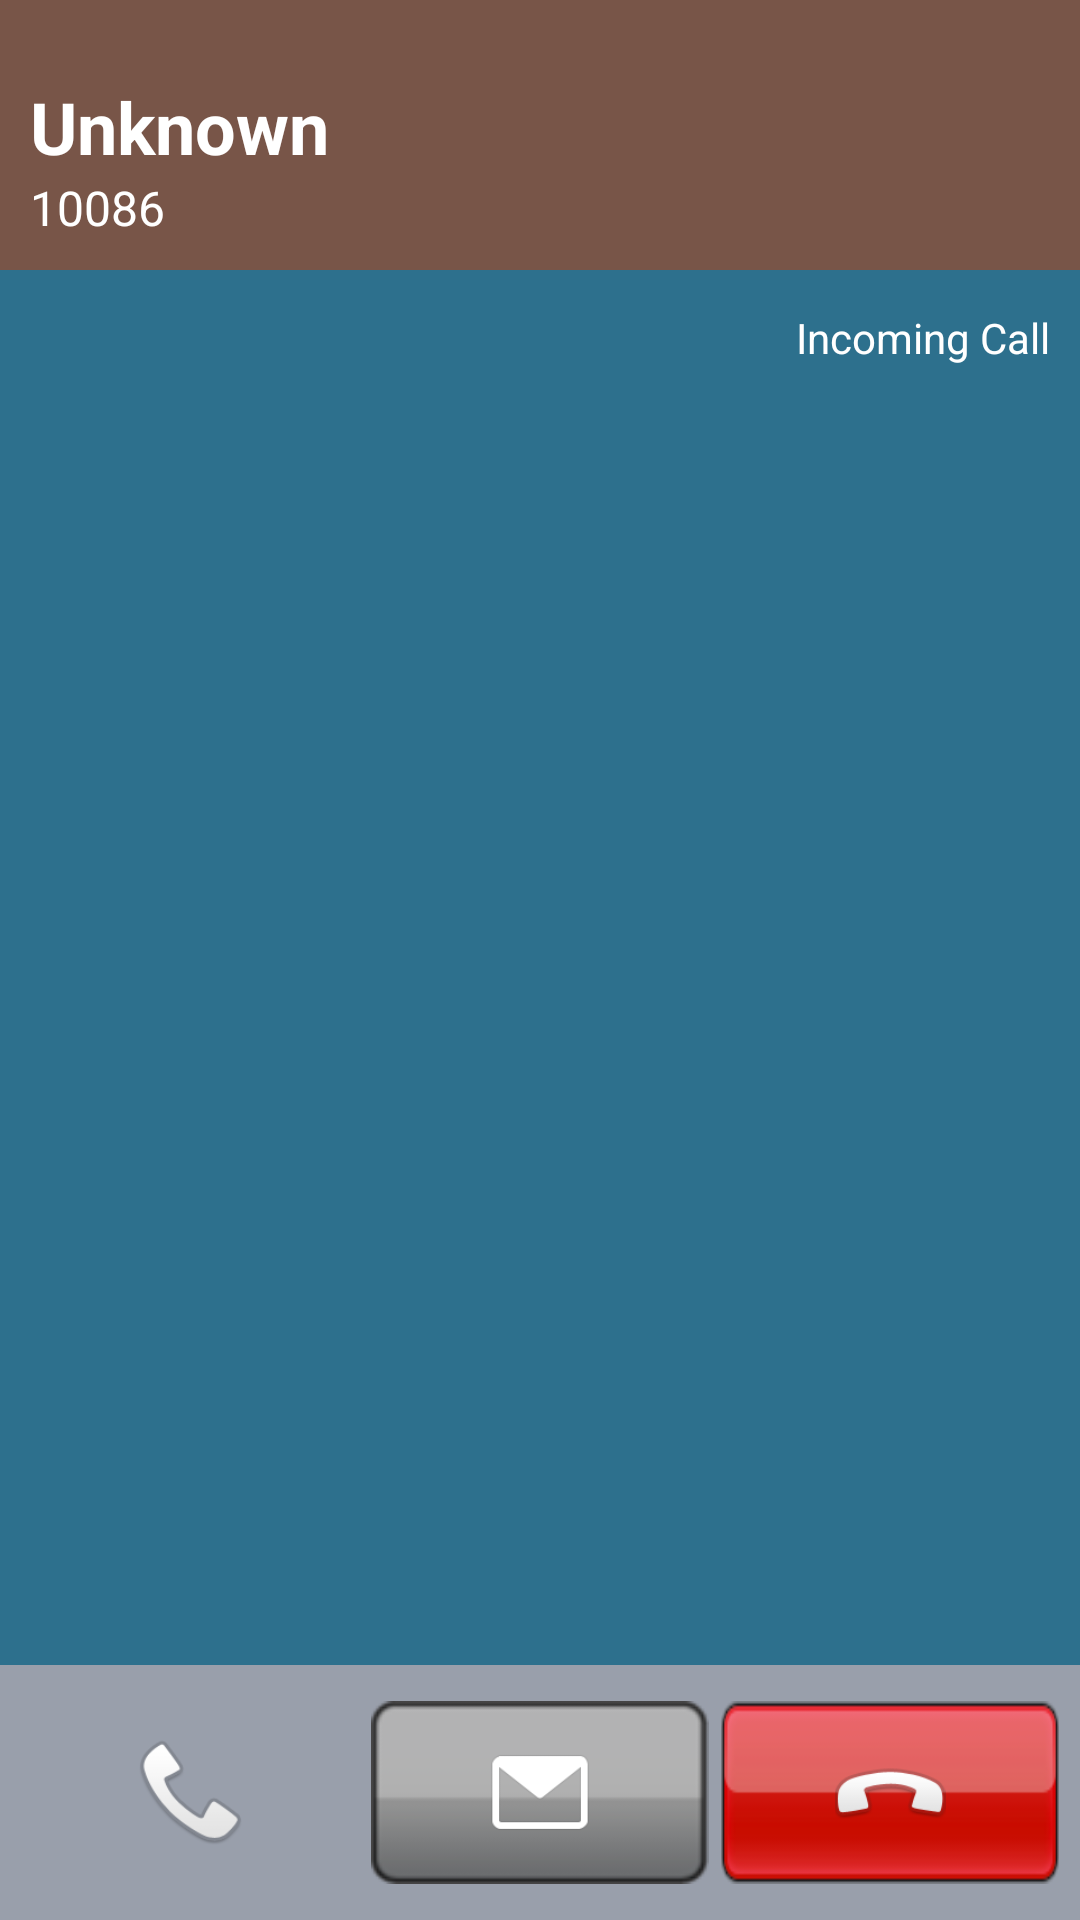

Where icons sit on this 1080w x 1920h app screen, as (x1, y1, x2, y2):
endcall: (721, 1701, 1059, 1884)
message: (371, 1701, 709, 1884)
receive: (141, 1742, 240, 1843)
